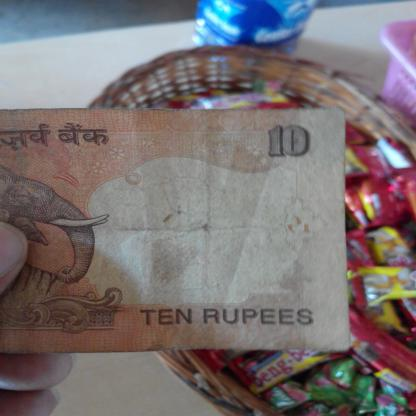Old10Back: (0, 106, 354, 356)
